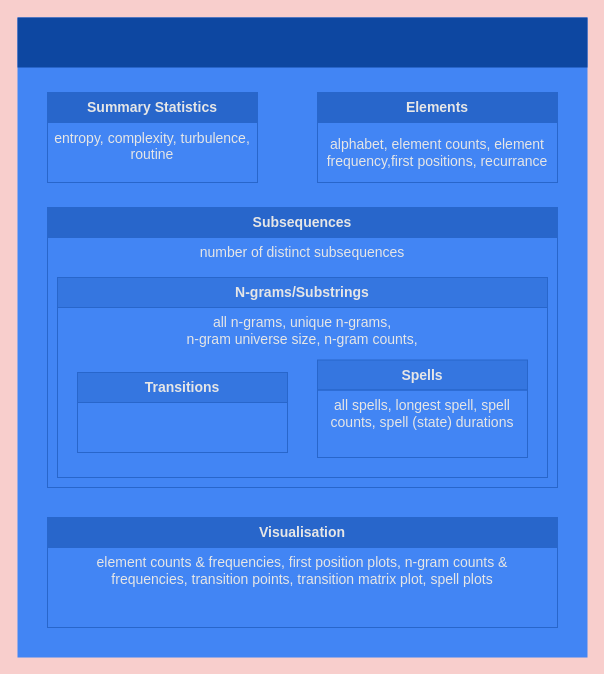
The diagram is 604 pixels wide and 674 high, and some of its shapes have lost their labels. The box of each missing label's shape, as (x1, y1, x2, y2) in pixels:
count, frequency, transition matrix: (76, 402, 288, 452)
Within Sequence Analysis: (17, 17, 587, 67)
